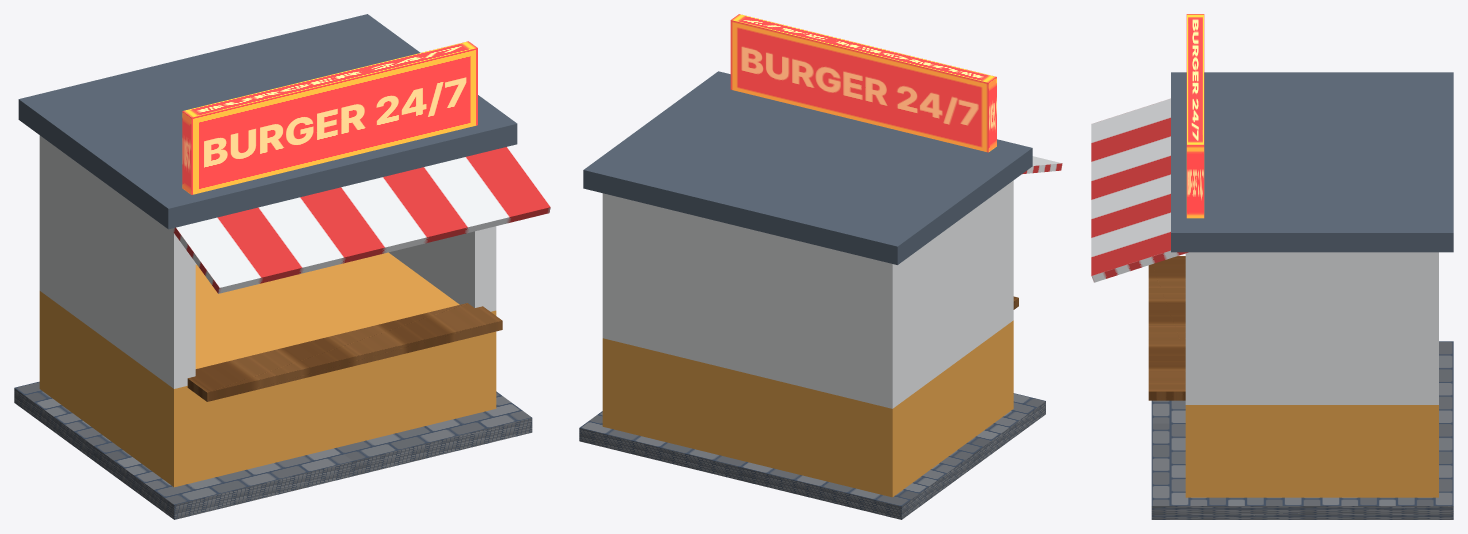
Rendered from kiosk_burger_shop.glb.
3 renders of one model, left to right at view 1: azimuth 30°, elevation 25°; view 2: azimuth 150°, elevation 25°; view 3: azimuth 270°, elevation 25°, orthographic. The views are drawn at different scales.
Parts seen in each view (by area): view 1: kiosk_burger_shop; view 2: kiosk_burger_shop; view 3: kiosk_burger_shop.
Part boxes in pixels (x1=…): kiosk_burger_shop: x1=14, y1=14, x2=550, y2=519; kiosk_burger_shop: x1=579, y1=14, x2=1062, y2=519; kiosk_burger_shop: x1=1091, y1=14, x2=1453, y2=519.
Bounding box in the file's own units: 4 × 4.06 × 3.72.
8 materials, 4 textured.
